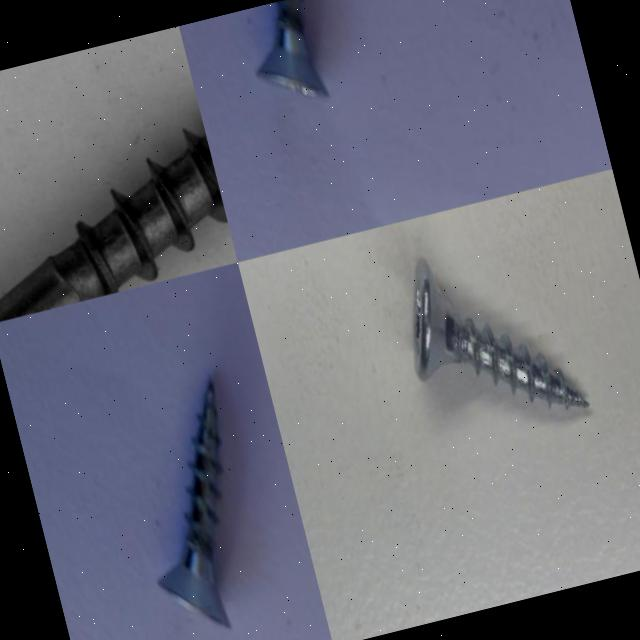Screw: (0, 47, 237, 323), (414, 259, 589, 409), (159, 383, 230, 629), (257, 0, 329, 99)
